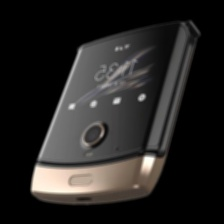phone: (28, 16, 203, 207)
